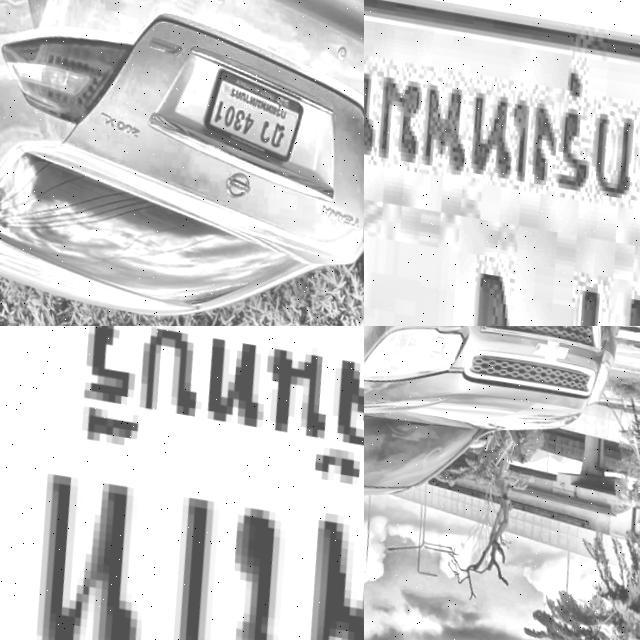license-plate: (0, 326, 364, 640), (364, 0, 640, 326), (183, 58, 308, 169)
